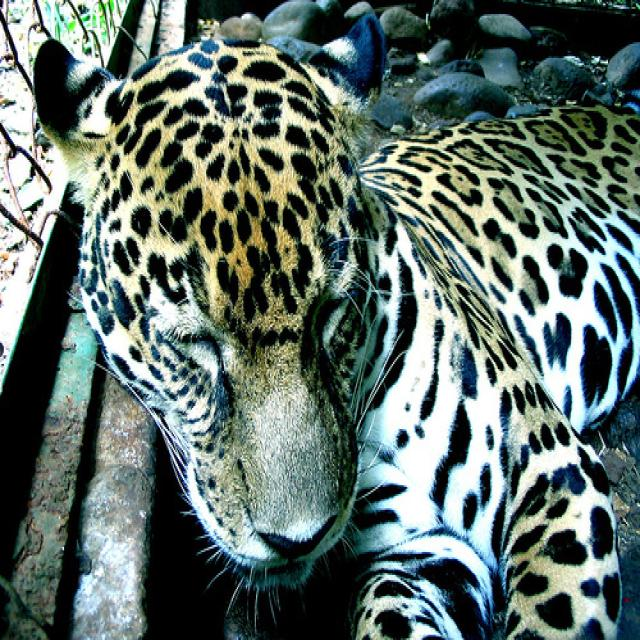Leopard: (31, 39, 637, 636)
